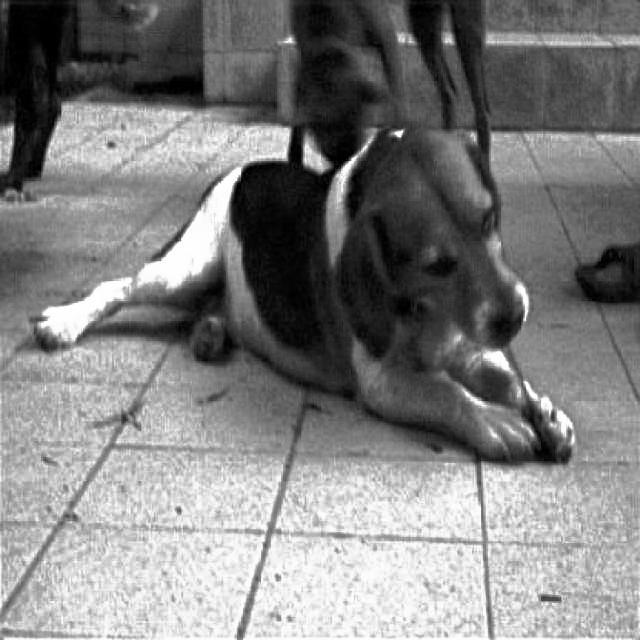Dog: (30, 114, 584, 477)
